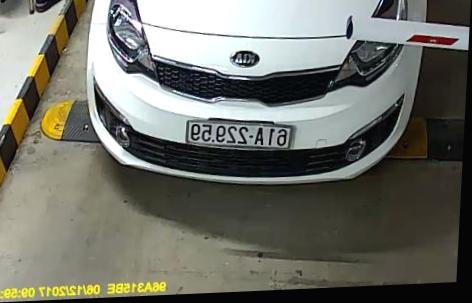License_Plate: (184, 116, 298, 150)
